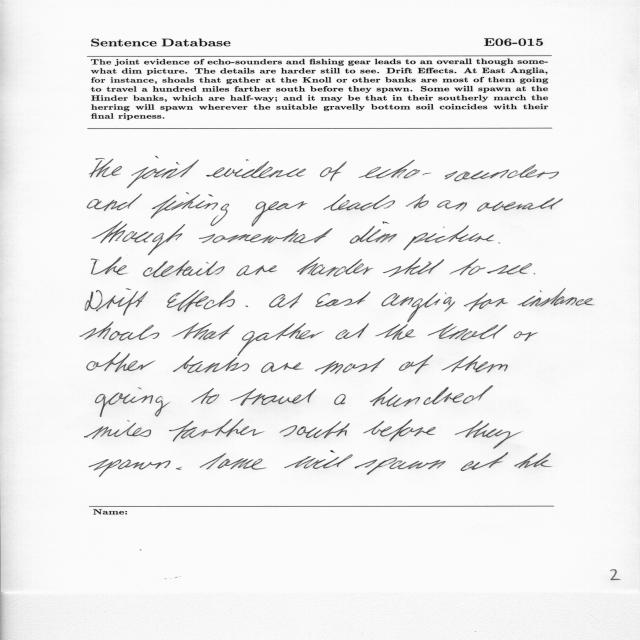word: (359, 160, 559, 181), (92, 222, 185, 256), (237, 323, 324, 356), (151, 192, 229, 226), (370, 386, 493, 407), (403, 225, 494, 250), (95, 387, 170, 417), (381, 293, 455, 322), (169, 419, 264, 441), (127, 160, 199, 188), (199, 228, 332, 243), (455, 420, 522, 449), (206, 159, 306, 178), (85, 288, 148, 316), (363, 420, 436, 442), (230, 388, 317, 406), (354, 458, 446, 475), (89, 156, 159, 178), (297, 257, 374, 277), (80, 322, 159, 341), (167, 290, 235, 312), (143, 260, 225, 278), (89, 459, 171, 477), (252, 201, 308, 227), (428, 324, 508, 341), (87, 352, 155, 372), (284, 450, 353, 469), (173, 356, 249, 373), (85, 420, 152, 439), (323, 194, 395, 211), (383, 257, 444, 277), (279, 421, 350, 438), (441, 355, 508, 373), (477, 198, 563, 212), (315, 358, 385, 375), (517, 288, 577, 307), (200, 453, 266, 470), (172, 322, 234, 340), (350, 221, 397, 244), (88, 194, 143, 211), (461, 452, 508, 471), (464, 293, 508, 312), (316, 292, 371, 307), (399, 354, 433, 374), (91, 257, 128, 275), (375, 324, 416, 340), (450, 259, 486, 276), (335, 323, 369, 340), (514, 453, 552, 468), (320, 161, 347, 181), (487, 263, 532, 275), (269, 293, 303, 308), (261, 362, 304, 373), (236, 266, 277, 277), (191, 388, 219, 404), (437, 200, 467, 211), (406, 194, 429, 208), (514, 331, 538, 341), (576, 298, 595, 306), (334, 394, 346, 405), (176, 467, 182, 470), (245, 306, 248, 308), (498, 242, 500, 244), (534, 273, 535, 275), (445, 292, 446, 294)
